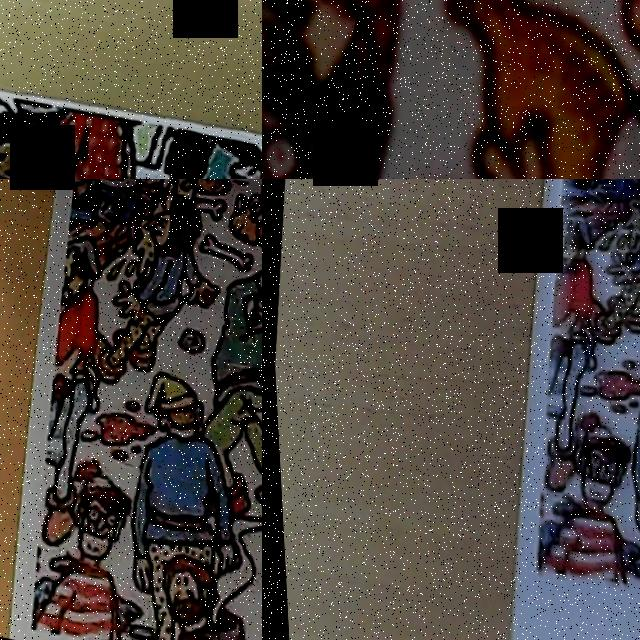waldo: (262, 0, 353, 179), (57, 444, 137, 571), (557, 398, 636, 514)
